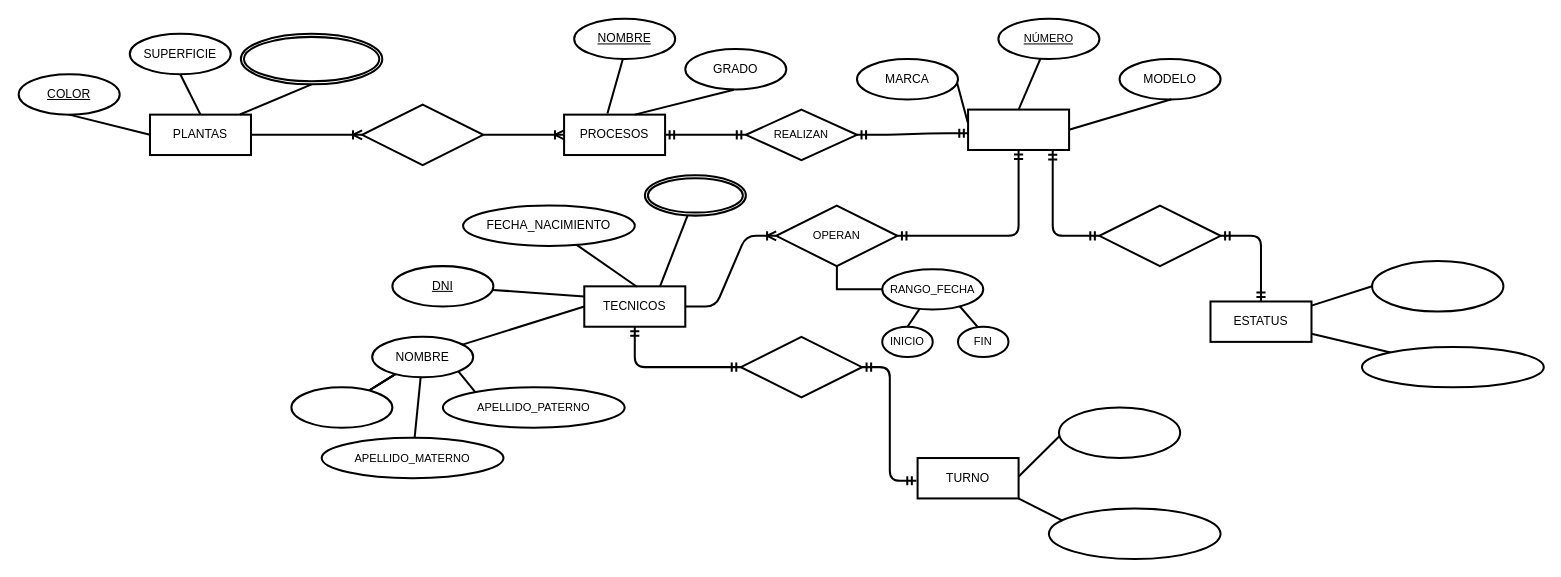
The diagram is 1561 pixels wide and 577 high, and some of its shapes have lost their labels. The shapes that lost their labels are listed below. From the top down, each one's centre as x and y in pixels, then its label:
At point (311, 58): "LISTA_PROCESOS".
At point (422, 134): "TIENE".
At point (1018, 129): "MAQUINAS".
At point (694, 195): "TELÉFONOS".
At point (1159, 235): "ESTÁN".
At point (1437, 286): "CLAVE_ESTATUS".
At point (801, 366): "TIENEN".
At point (1452, 366): "DESCRIPCIÓN_ESTATUS".
At point (341, 407): "NOMBRES".
At point (1119, 432): "CLAVE_TURNO".
At point (1134, 533): "DESCRIPCIÓN_TURNO".
